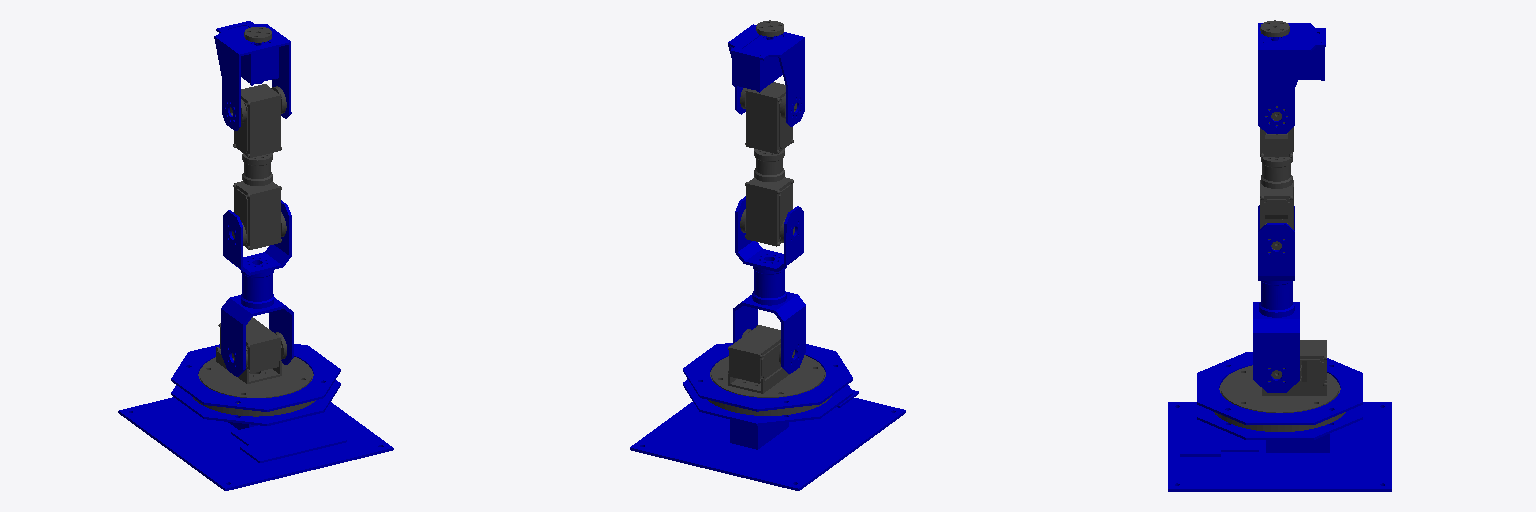
URDF robot description (xarm):
<?xml version="1.0" ?>
<robot name="xarm">
    <material name="DarkGrey">
        <color rgba="0.3 0.3 0.3 1.0" />
    </material>
    <material name="Red">
        <color rgba="0.3 0.3 0.3 1.0" />
    </material>
    <material name="Black">
        <color rgba="0 0 0 1.0" />
    </material>
    <material name="Orange">
        <color rgba="0.0 0.15 0.7 1.0" />
    </material>
    <material name="Silver">
        <color rgba="1.0 1.0 1.0 1.0" />
    </material>
    <material name="Grey">
        <color rgba="0.7 0.7 0.7 1.0" />
    </material>
    <material name="Blue">
        <color rgba="0.0 0.0 0.8 1.0" />
    </material>
    <material name="HandGray">
        <color rgba="0.953 0.996 0.694 1.0" />
    </material>
    <material name="SickBlue">
        <color rgba="0.3058 0.5921 0.7294 1.0" />
    </material>
    <property name="M_PI" value="3.1415926535897931" />
    <link name="xarm_base_link">
        <visual>
            <origin rpy="0 0 0" xyz="0.0 0.0 0.0" />
            <geometry>
                <mesh filename="package://xarm_description/meshes/stls/base.stl" scale="1.0 1.0 1.0" />
            </geometry>
            <material name="Blue" />
        </visual>
        <collision>
            <origin rpy="0 0 0" xyz="0 0 0" />
            <geometry>
                <mesh filename="package://xarm_description/meshes/stls/base.stl" scale="1.0 1.0 1.0" />
            </geometry>
        </collision>
        
        <inertial>
            <mass value="0.1" />
            <inertia ixx="0.03" iyy="0.03" izz="0.03" ixy="0.0" ixz="0.0" iyz="0.0" />
        </inertial>
    </link>

    <link name="xarm_6_link">
        <visual>
            <origin rpy="0 0 0" xyz="0.0 0.0 0.0" />
            <geometry>
                <mesh filename="package://xarm_description/meshes/stls/link6.stl" scale="1.0 1.0 1.0" />
            </geometry>
            <material name="DarkGrey" />
        </visual>
        <collision>
            <origin rpy="0 0 0" xyz="0.0 0.0 0.0" />
            <geometry>
                <mesh filename="package://xarm_description/meshes/stls/link6.stl" scale="1.0 1.0 1.0" />
            </geometry>
        </collision>
        <inertial>
            <mass value="0.1" />
            <inertia ixx="0.03" iyy="0.03" izz="0.03" ixy="0.0" ixz="0.0" iyz="0.0" />
        </inertial>
    </link>

    <link name="xarm_5_link">
        <visual>
            <origin rpy="0 0 0" xyz="0.0 0.0 0.0" />
            <geometry>
                <mesh filename="package://xarm_description/meshes/stls/link5.stl" scale="1.0 1.0 1.0" />
            </geometry>
            <material name="Blue" />
        </visual>
        <collision>
            <origin rpy="0 0 0" xyz="0.0 0.0 0.0" />
            <geometry>
                <mesh filename="package://xarm_description/meshes/stls/link5.stl" scale="1.0 1.0 1.0" />
            </geometry>
        </collision>
        <inertial>
            <mass value="0.1" />
            <inertia ixx="0.03" iyy="0.03" izz="0.03" ixy="0.0" ixz="0.0" iyz="0.0" />
        </inertial>
    </link>

    <link name="xarm_4_link">
        <visual>
            <origin rpy="0 0 0" xyz="0.0 0.0 0.0" />
            <geometry>
                <mesh filename="package://xarm_description/meshes/stls/link4.stl" scale="1.0 1.0 1.0" />
            </geometry>
            <material name="DarkGrey" />
        </visual>
        <collision>
            <origin rpy="0 0 0" xyz="0.0 0.0 0.0" />
            <geometry>
                <mesh filename="package://xarm_description/meshes/stls/link4.stl" scale="1.0 1.0 1.0" />
            </geometry>
        </collision>
        <inertial>
            <mass value="0.1" />
            <inertia ixx="0.03" iyy="0.03" izz="0.03" ixy="0.0" ixz="0.0" iyz="0.0" />
        </inertial>
    </link>

    <link name="xarm_3_link">
        <visual>
            <origin rpy="0 0 0" xyz="0.0 0.0 0.0" />
            <geometry>
                <mesh filename="package://xarm_description/meshes/stls/link3.stl" scale="1.0 1.0 1.0" />
            </geometry>
            <material name="Blue" />
        </visual>
        <collision>
            <origin rpy="0 0 0" xyz="0.0 0.0 0.0" />
            <geometry>
                <mesh filename="package://xarm_description/meshes/stls/link3.stl" scale="1.0 1.0 1.0" />
            </geometry>
        </collision>
        <inertial>
            <mass value="0.1" />
            <inertia ixx="0.03" iyy="0.03" izz="0.03" ixy="0.0" ixz="0.0" iyz="0.0" />
        </inertial>
    </link>

    <link name="xarm_2_link">
        <visual>
            <origin rpy="0 0 0" xyz="0.0 0.0 0.0" />
            <geometry>
                <mesh filename="package://xarm_description/meshes/stls/link2.stl" scale="1.0 1.0 1.0" />
            </geometry>
            <material name="DarkGrey" />
        </visual>
        <collision>
            <origin rpy="0 0 0" xyz="0.0 0.0 0.0" />
            <geometry>
                <mesh filename="package://xarm_description/meshes/stls/link2.stl" scale="1.0 1.0 1.0" />
            </geometry>
        </collision>
        <inertial>
            <mass value="0.1" />
            <inertia ixx="0.03" iyy="0.03" izz="0.03" ixy="0.0" ixz="0.0" iyz="0.0" />
        </inertial>
    </link>
    
    <joint name="xarm_6_joint" type="revolute">
        <origin rpy="0 0 0" xyz="0 0.0 0.03603" />
        <axis xyz="0 0 1" />
        <limit effort="1000" lower="-1.737238322" upper="1.79965407" velocity="1.0" />
        <!--safety_controller k_position="30" k_velocity="30" soft_lower_limit="-2.93215314335" soft_upper_limit="2.93215314335"/>
        <dynamics damping="1.0"/-->
        <parent link="xarm_base_link" />
        <child link="xarm_6_link" />
    </joint>

    <joint name="xarm_5_joint" type="revolute">
        <origin rpy="0 0 0" xyz="0 -0.0022 0.03195" />
        <axis xyz="1 0 0" />
        <limit effort="1000" lower="-1.592023304" upper="1.86797401" velocity="1.0" />
        <!--safety_controller k_position="30" k_velocity="30" soft_lower_limit="-2.93215314335" soft_upper_limit="2.93215314335"/>
        <dynamics damping="1.0"/-->
        <parent link="xarm_6_link" />
        <child link="xarm_5_link" />
    </joint>

    <joint name="xarm_4_joint" type="revolute">
        <origin rpy="0 0 0" xyz="0 0.0 0.09765" />
        <axis xyz="1 0 0" />
        <limit effort="1000" lower="-1.910427965" upper="1.910427965" velocity="1.0" />
        <!--safety_controller k_position="30" k_velocity="30" soft_lower_limit="-2.93215314335" soft_upper_limit="2.93215314335"/>
        <dynamics damping="1.0"/-->
        <parent link="xarm_5_link" />
        <child link="xarm_4_link" />
    </joint>

    <joint name="xarm_3_joint" type="revolute">
        <origin rpy="0 0 0" xyz="0 0.0 0.09825" />
        <axis xyz="1 0 0" />
        <limit effort="1000" lower="-1.740612146" upper="1.86797401" velocity="1.0" />
        <!--safety_controller k_position="30" k_velocity="30" soft_lower_limit="-2.93215314335" soft_upper_limit="2.93215314335"/>
        <dynamics damping="1.0"/-->
        <parent link="xarm_4_link" />
        <child link="xarm_3_link" />
    </joint>

    <joint name="xarm_2_joint" type="revolute">
        <origin rpy="0 0 0" xyz="0 -0.001205 0.05306" />
        <axis xyz="0 0 1" />
        <limit effort="1000" lower="-2.17494876" upper="1.63121157" velocity="1.0" />
        <!--safety_controller k_position="30" k_velocity="30" soft_lower_limit="-2.93215314335" soft_upper_limit="2.93215314335"/>
        <dynamics damping="1.0"/-->
        <parent link="xarm_3_link" />
        <child link="xarm_2_link" />
    </joint>

    
    <transmission name="trans_xarm_6_joint">
        <type>transmission_interface/SimpleTransmission</type>
        <joint name="xarm_6_joint">
            <hardwareInterface>hardware_interface/EffortJointInterface</hardwareInterface>
        </joint>
        <actuator name="xarm_6_joint_motor">
            <hardwareInterface>hardware_interface/EffortJointInterface</hardwareInterface>
            <mechanicalReduction>1</mechanicalReduction>
        </actuator>
    </transmission>

    <transmission name="trans_xarm_5_joint">
        <type>transmission_interface/SimpleTransmission</type>
        <joint name="xarm_5_joint">
            <hardwareInterface>hardware_interface/EffortJointInterface</hardwareInterface>
        </joint>
        <actuator name="xarm_5_joint_motor">
            <hardwareInterface>hardware_interface/EffortJointInterface</hardwareInterface>
            <mechanicalReduction>1</mechanicalReduction>
        </actuator>
    </transmission>

    <transmission name="trans_xarm_4_joint">
        <type>transmission_interface/SimpleTransmission</type>
        <joint name="xarm_4_joint">
            <hardwareInterface>hardware_interface/EffortJointInterface</hardwareInterface>
        </joint>
        <actuator name="xarm_4_joint_motor">
            <hardwareInterface>hardware_interface/EffortJointInterface</hardwareInterface>
            <mechanicalReduction>1</mechanicalReduction>
        </actuator>
    </transmission>

    <transmission name="trans_xarm_3_joint">
        <type>transmission_interface/SimpleTransmission</type>
        <joint name="xarm_3_joint">
            <hardwareInterface>hardware_interface/EffortJointInterface</hardwareInterface>
        </joint>
        <actuator name="xarm_3_joint_motor">
            <hardwareInterface>hardware_interface/EffortJointInterface</hardwareInterface>
            <mechanicalReduction>1</mechanicalReduction>
        </actuator>
    </transmission>

    <transmission name="trans_xarm_2_joint">
        <type>transmission_interface/SimpleTransmission</type>
        <joint name="xarm_2_joint">
            <hardwareInterface>hardware_interface/EffortJointInterface</hardwareInterface>
        </joint>
        <actuator name="xarm_2_joint_motor">
            <hardwareInterface>hardware_interface/EffortJointInterface</hardwareInterface>
            <mechanicalReduction>1</mechanicalReduction>
        </actuator>
    </transmission>

    <gazebo>
        <plugin name="gazebo_ros_control" filename="libgazebo_ros_control.so">
            <robotNamespace>/</robotNamespace>
        </plugin>
    </gazebo>
</robot>

--- What the picture shows (computed from the rendered views, not written in the file) ---
Views: 3 orthographic renders of the robot side by side, from view 1: azimuth 30°, elevation 25°; view 2: azimuth 150°, elevation 25°; view 3: azimuth 270°, elevation 25°.
Robot: xarm — 6 links, 5 joints (5 revolute); root link xarm_base_link; default pose: every joint at zero.
Visible links, largest first — view 1: xarm_base_link, xarm_4_link, xarm_5_link, xarm_6_link, xarm_3_link; view 2: xarm_base_link, xarm_4_link, xarm_5_link, xarm_6_link, xarm_3_link; view 3: xarm_base_link, xarm_5_link, xarm_3_link, xarm_6_link, xarm_4_link.
Link boxes in pixels (left/top/right/bottom): xarm_base_link: left=118, top=344, right=393, bottom=490; xarm_4_link: left=230, top=84, right=286, bottom=249; xarm_5_link: left=221, top=200, right=293, bottom=376; xarm_6_link: left=193, top=317, right=315, bottom=416; xarm_3_link: left=214, top=21, right=291, bottom=130; xarm_base_link: left=630, top=343, right=905, bottom=490; xarm_4_link: left=740, top=82, right=796, bottom=246; xarm_5_link: left=733, top=196, right=805, bottom=373; xarm_6_link: left=708, top=325, right=831, bottom=415; xarm_3_link: left=728, top=24, right=804, bottom=126; xarm_base_link: left=1168, top=352, right=1391, bottom=491; xarm_5_link: left=1253, top=205, right=1299, bottom=392; xarm_3_link: left=1258, top=23, right=1325, bottom=133; xarm_6_link: left=1214, top=340, right=1345, bottom=431; xarm_4_link: left=1260, top=106, right=1293, bottom=252.
Size in the robot's own frame: 0.1403 by 0.1543 by 0.3225 metres.
Meshes: 6 distinct files referenced, 6 mesh visuals loaded (6 binary STL).